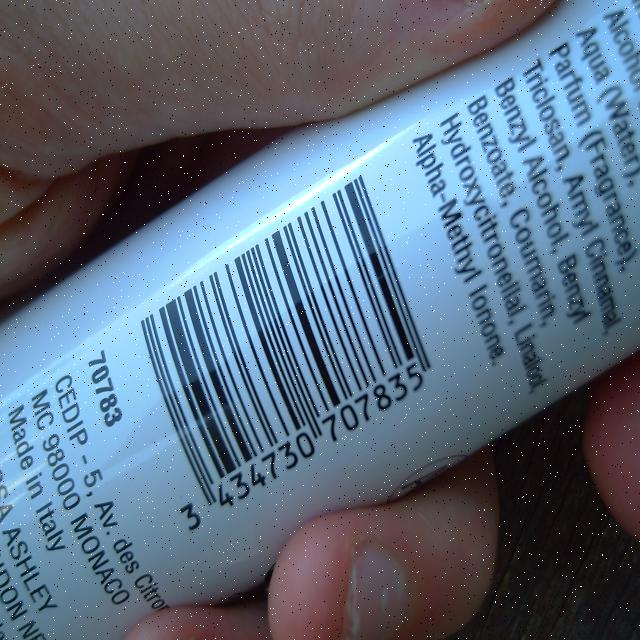barcode: (141, 175, 422, 543)
